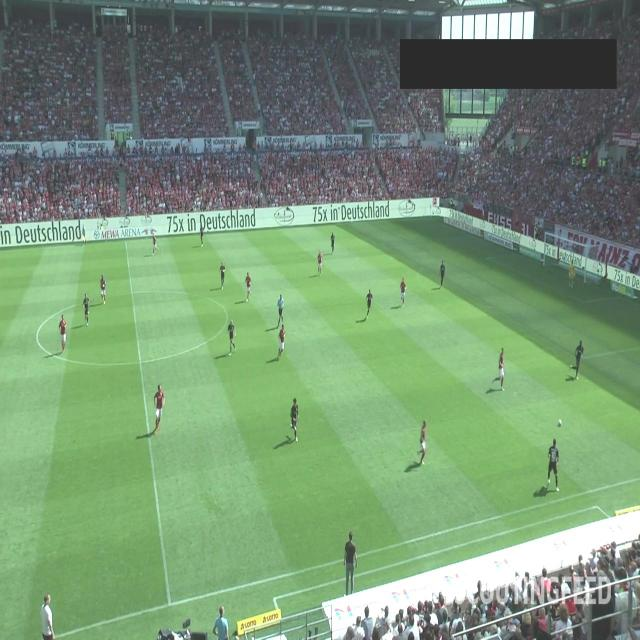ball: (558, 418, 562, 428)
goalkeeper: (568, 261, 575, 289)
player: (546, 438, 560, 492), (570, 339, 584, 382), (154, 384, 164, 434), (276, 323, 286, 360), (419, 420, 427, 466), (498, 346, 506, 391), (290, 397, 298, 442), (227, 319, 236, 356), (82, 294, 92, 326), (58, 314, 66, 354), (244, 272, 252, 302), (100, 274, 106, 304), (152, 233, 160, 255), (366, 288, 372, 317), (220, 261, 226, 290), (439, 260, 445, 288), (401, 277, 406, 308), (318, 250, 322, 276), (330, 232, 335, 252), (200, 227, 203, 247)
referee: (278, 294, 284, 328), (82, 224, 86, 244)
